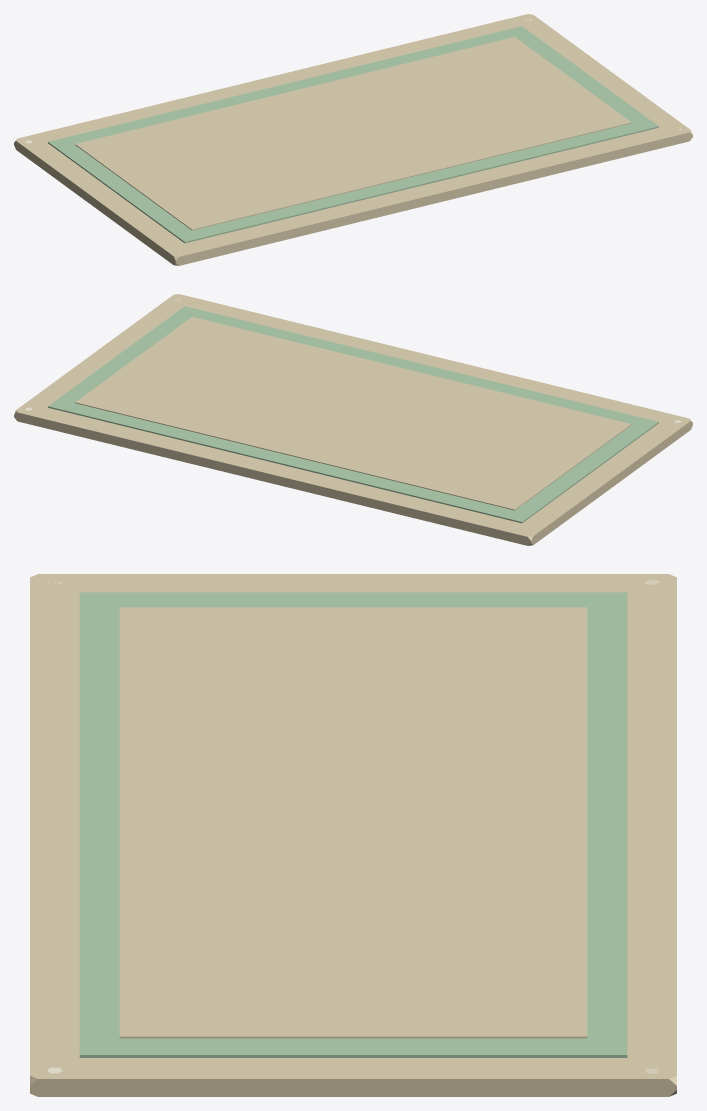
The model's file is Furniture_BedsideMat.glb.
The picture shows the model from 3 angles, top to bottom: view 1: azimuth 30°, elevation 25°; view 2: azimuth 150°, elevation 25°; view 3: azimuth 270°, elevation 25°; orthographic projection. The views are drawn at different scales.
Visible parts, largest first — view 1: Furniture_BedsideMat; view 2: Furniture_BedsideMat; view 3: Furniture_BedsideMat.
Boxes of the visible parts, x1,y1,x2,y2 form: Furniture_BedsideMat: (14, 14, 692, 265); Furniture_BedsideMat: (14, 294, 692, 545); Furniture_BedsideMat: (30, 574, 676, 1096).
Bounding box in the file's own units: 1.2 × 0.025 × 0.65.
